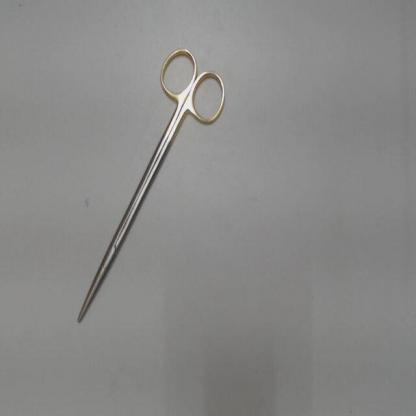7 Metzenbaum Scissors: (72, 41, 229, 328)
